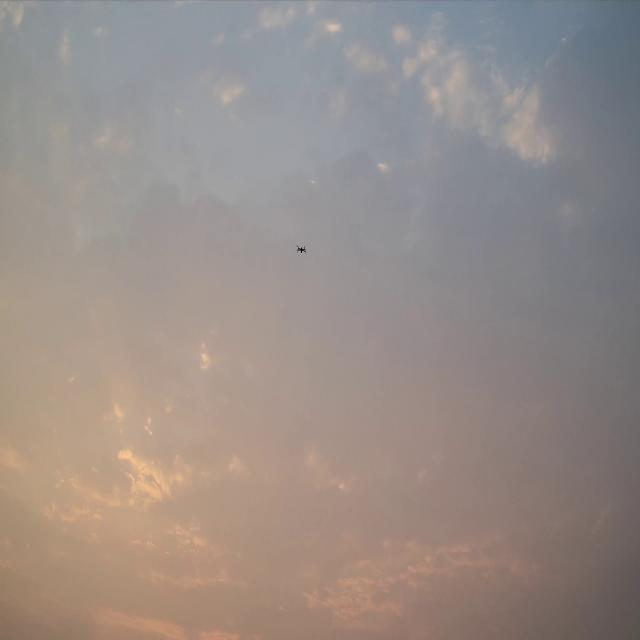UAV: (295, 245, 307, 254)
